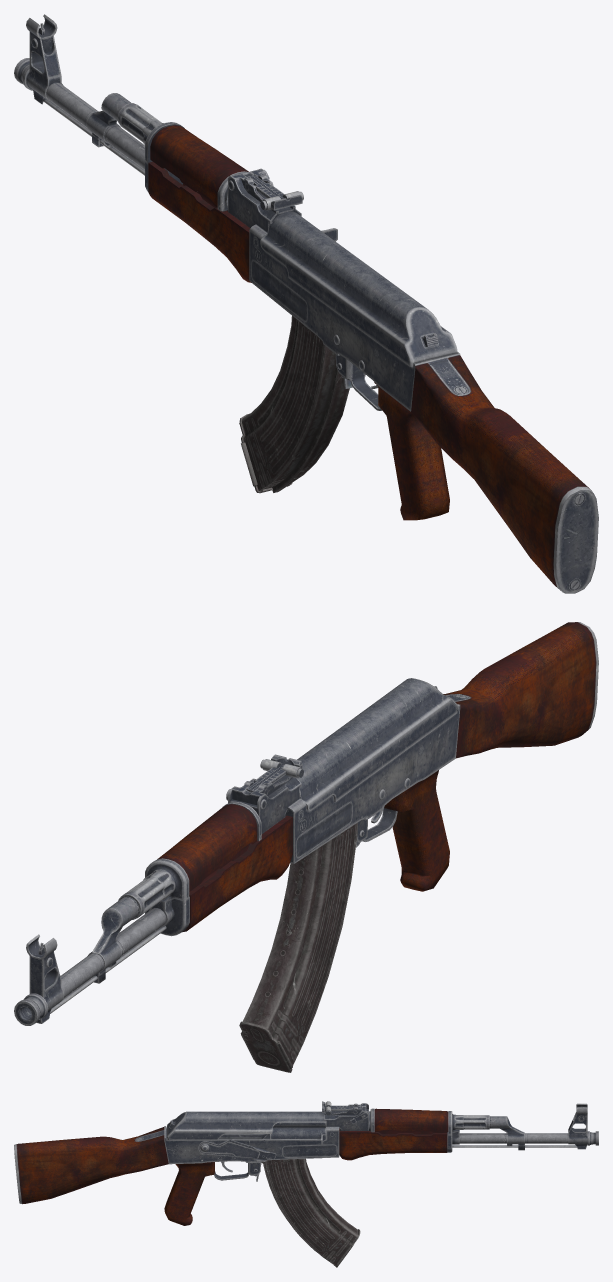
The model's file is weapon_ak47.glb.
The picture shows the model from 3 angles, top to bottom: view 1: azimuth 30°, elevation 25°; view 2: azimuth 150°, elevation 25°; view 3: azimuth 270°, elevation 25°; orthographic projection. The views are drawn at different scales.
Parts seen in each view (by area): view 1: Receiver, Magazine; view 2: Receiver, Magazine; view 3: Receiver, Magazine, BoltCarrier, Selector.
Boxes of the visible parts, left/top/right/bottom form: Receiver: left=14, top=14, right=598, bottom=593; Magazine: left=239, top=316, right=349, bottom=493; Receiver: left=14, top=622, right=598, bottom=1025; Magazine: left=239, top=822, right=357, bottom=1072; Receiver: left=14, top=1101, right=598, bottom=1225; Magazine: left=263, top=1158, right=360, bottom=1267; BoltCarrier: left=270, top=1122, right=326, bottom=1145; Selector: left=198, top=1139, right=276, bottom=1161.
Bounding box in the file's own units: 0.0667 × 0.265 × 0.8792.
1 material, 1 textured.
